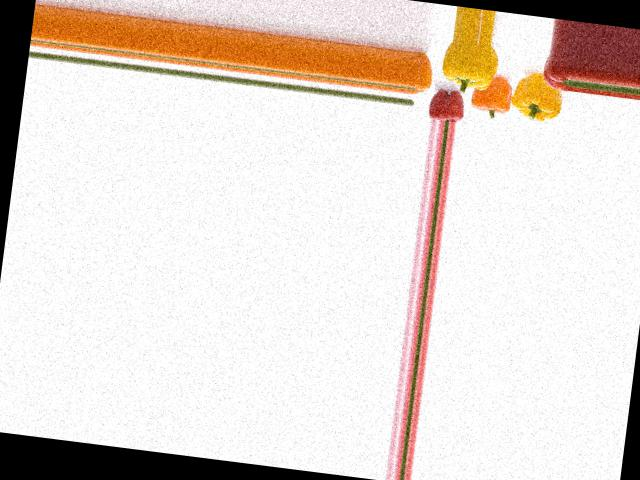bell_pepper: (411, 51, 437, 98)
